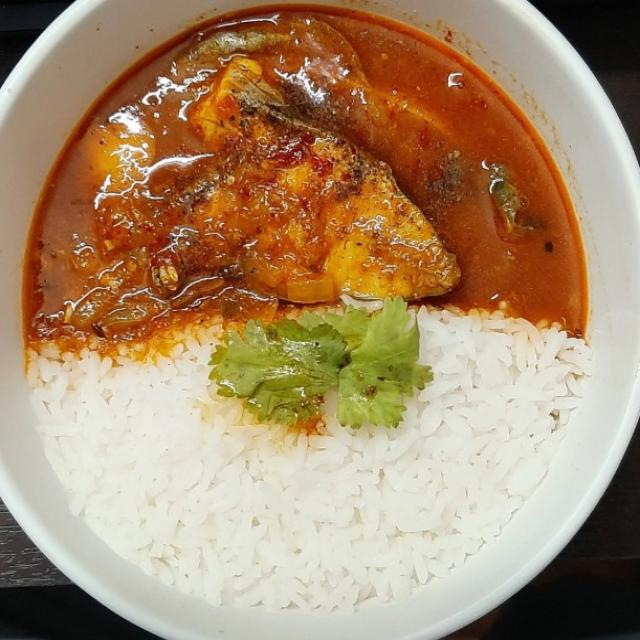FISH CURRY: (24, 6, 587, 362)
RICE: (31, 309, 591, 614)
